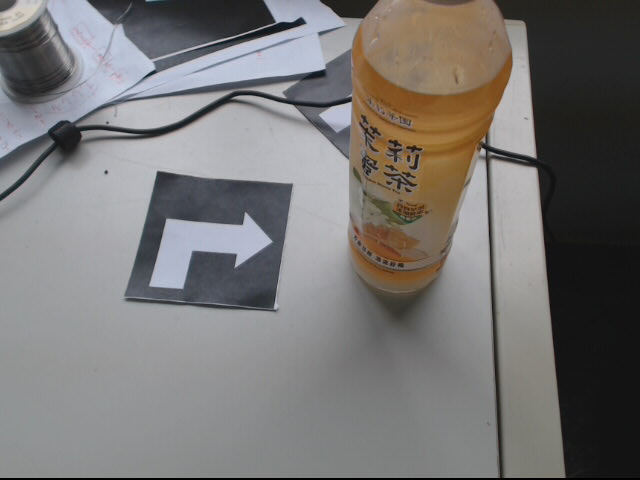right: (125, 170, 290, 311)
